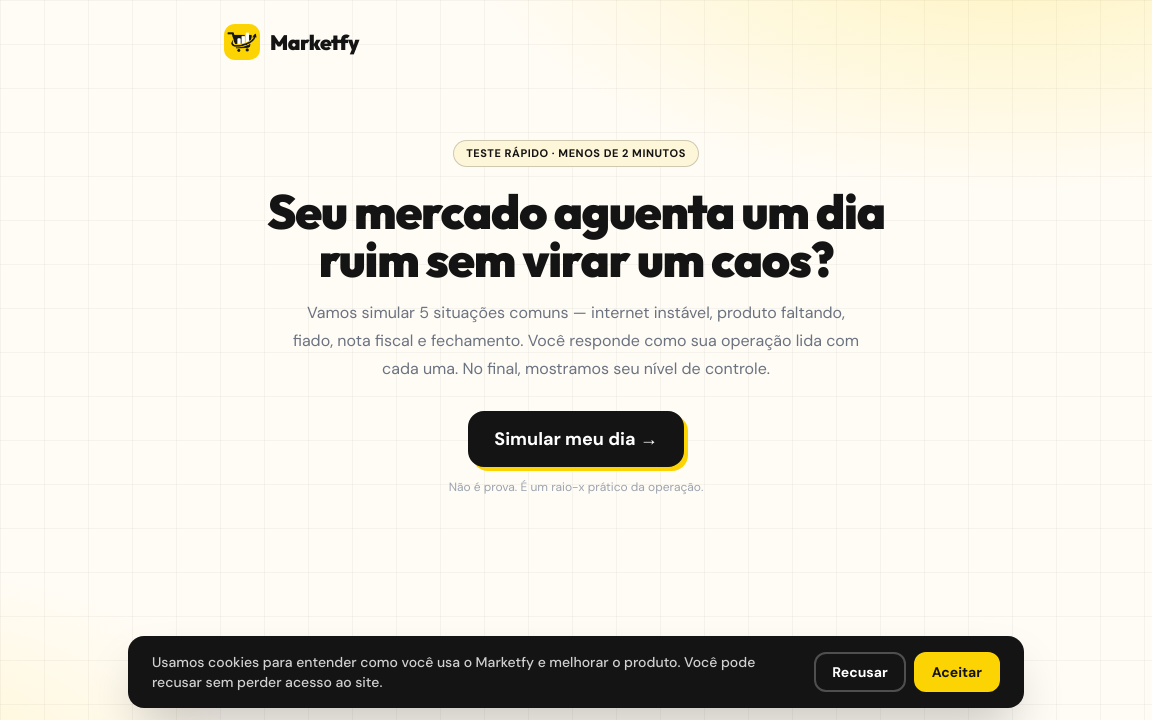
FunilDiaDoMercado (/funil-b) › starts the funnel and tracks the first step
Click the button "Simular meu dia →".
click(576, 438)  # box [468,410,684,466]
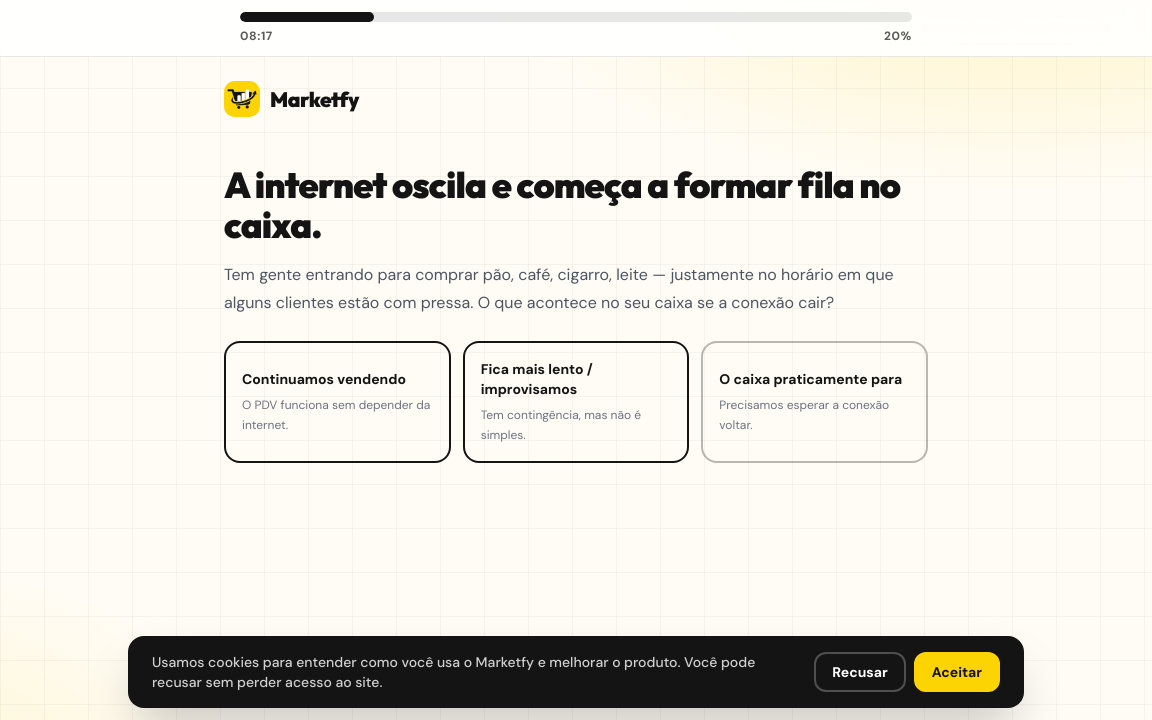
Expected: the heading "A internet oscila e começa a formar fila no caixa." is shown, [224,165,928,245]
